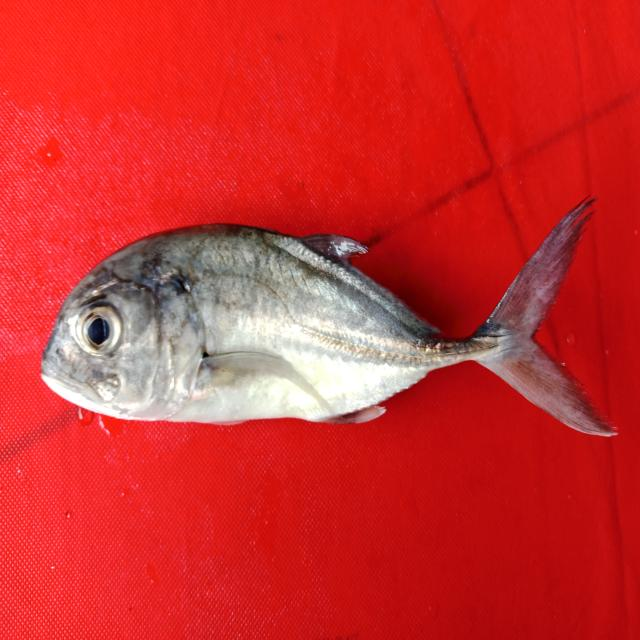ikan: (40, 193, 618, 438)
